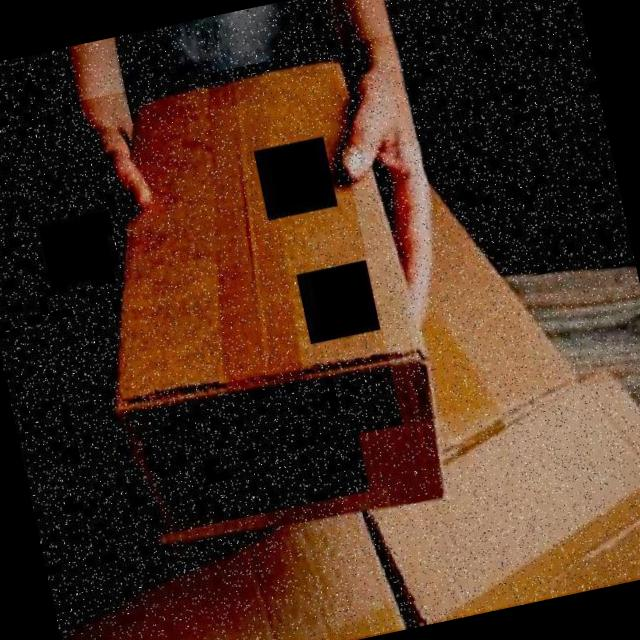box: (39, 33, 494, 574), (345, 117, 604, 492), (358, 370, 640, 628), (45, 486, 416, 640)
